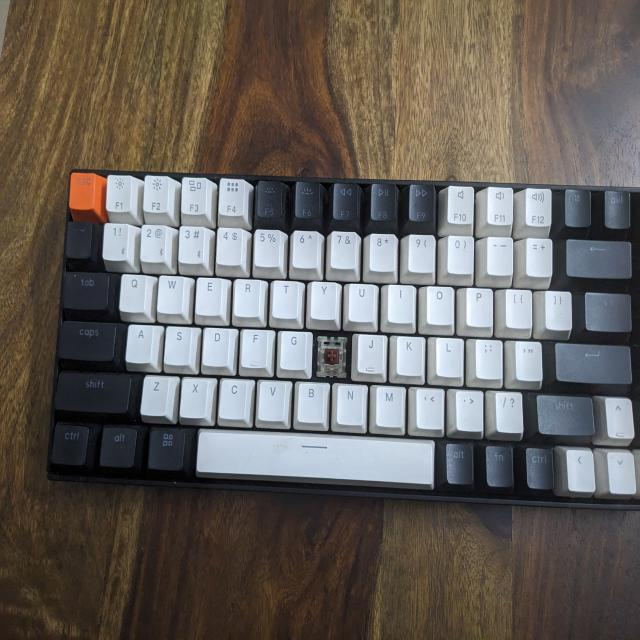C: (318, 334, 347, 378)
